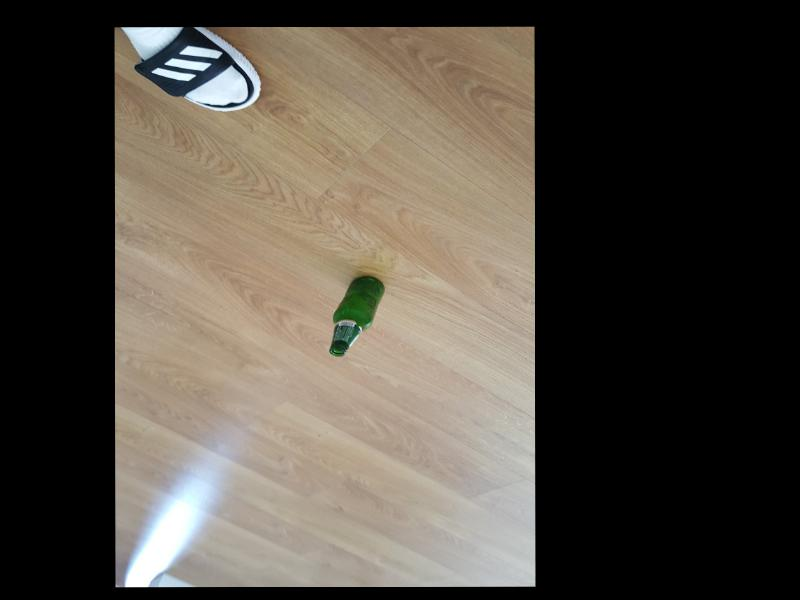Beer: (329, 276, 382, 354)
